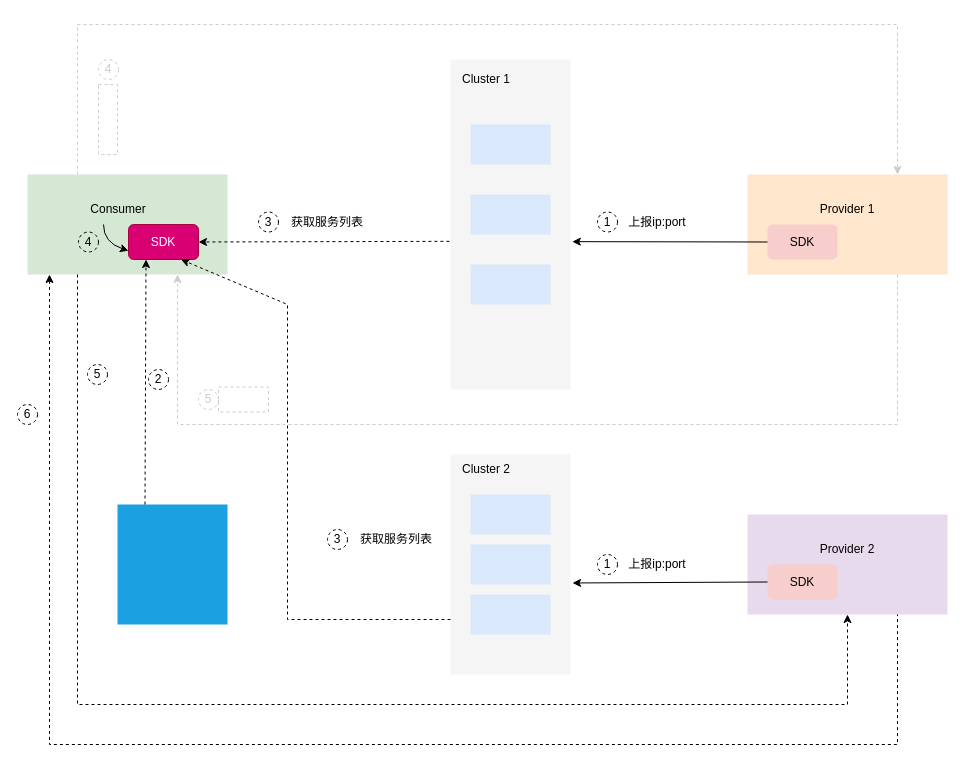
The diagram is 965 pixels wide and 770 high, and some of its shapes have lost their labels. The centre of each missing label's shape, as x and y in pixels:
"Cluster House" belongs at (x=172, y=564).
"响应" belongs at (x=243, y=399).
"服务调用" belongs at (x=108, y=119).
